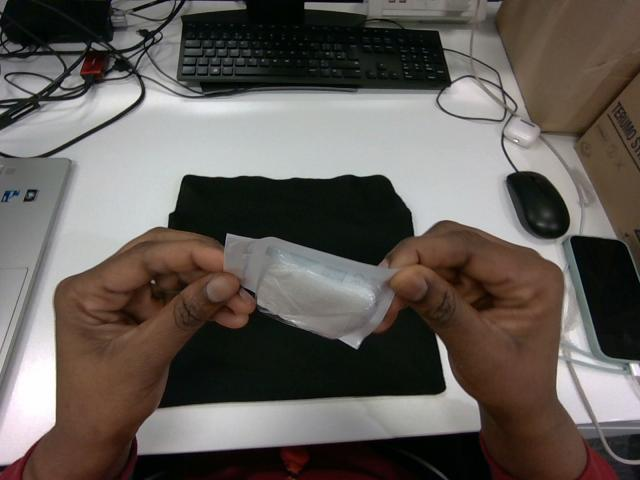gauze: (224, 234, 395, 348)
